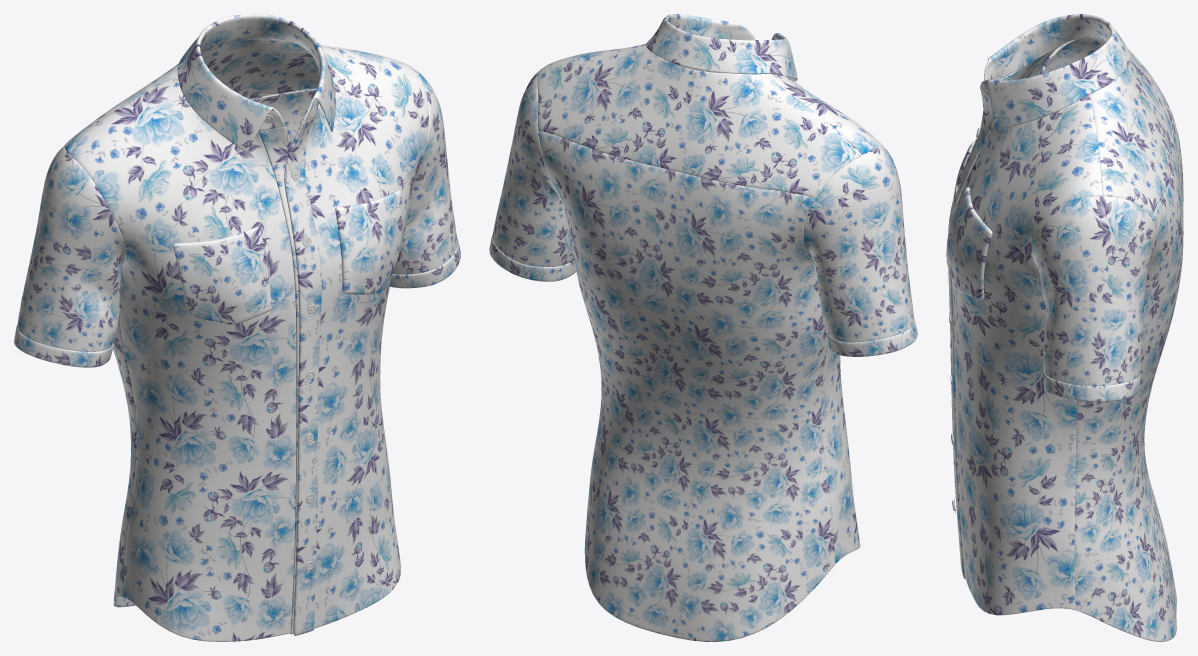
The model's file is default-shirt.gltf.
3 views of the same model, side by side, from view 1: azimuth 30°, elevation 25°; view 2: azimuth 150°, elevation 25°; view 3: azimuth 270°, elevation 25° (orthographic). The views are drawn at different scales.
Visible parts, largest first — view 1: fitClassic, sleeveShort, vShaped, placketNarrow, businessClassic, backUpper, backLower; view 2: backLower, backUpper, sleeveShort, fitClassic, businessClassic; view 3: fitClassic, backLower, sleeveShort, businessClassic, backUpper, vShaped, placketNarrow.
Part boxes in pixels (box(x1,y1,x2,y2)): fitClassic: box(65, 46, 428, 641); sleeveShort: box(14, 71, 460, 367); vShaped: box(173, 190, 402, 324); placketNarrow: box(259, 117, 321, 635); businessClassic: box(177, 14, 335, 152); backUpper: box(64, 39, 362, 147); backLower: box(113, 90, 318, 607); backLower: box(538, 131, 835, 641); backUpper: box(537, 45, 861, 198); sleeveShort: box(489, 68, 917, 356); fitClassic: box(538, 44, 883, 563); businessClassic: box(646, 14, 797, 81); fitClassic: box(952, 45, 1102, 615); backLower: box(1074, 103, 1183, 641); sleeveShort: box(1031, 37, 1156, 401); businessClassic: box(980, 14, 1130, 131); backUpper: box(1089, 49, 1172, 217); vShaped: box(946, 140, 992, 299); placketNarrow: box(948, 78, 1000, 578).
Size of the model in its own units: 5.4 by 7.14 by 2.62.
Materials: 2 (1 with a texture image).
